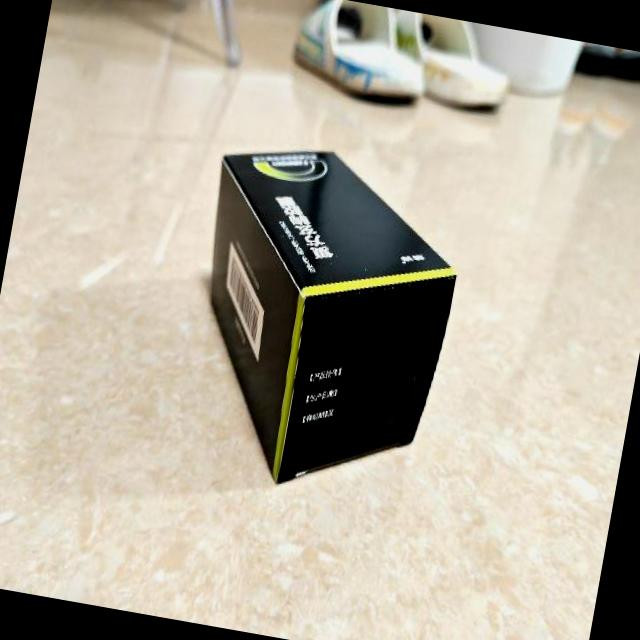box: (170, 132, 474, 509)
